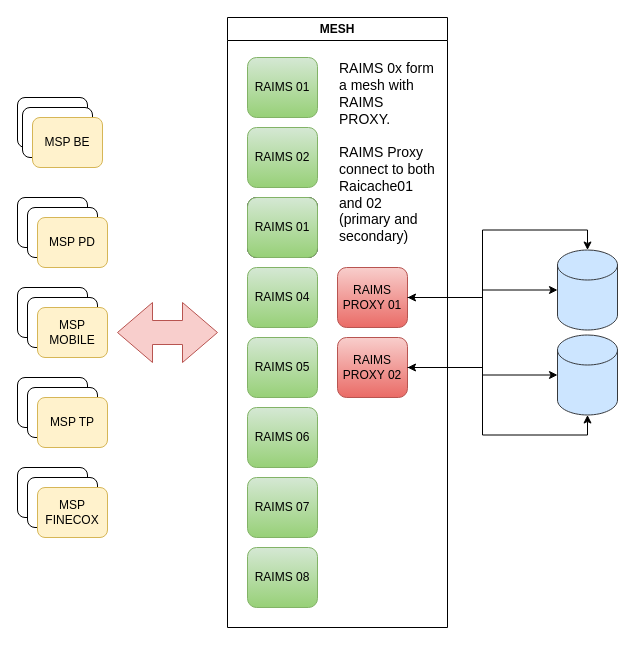
The diagram is 635 pixels wide and 645 high, and some of its shapes have lost their labels. The shapes that lost their labels are listed below. From the top down, each one's centre as x and y in pixels, then its label:
(x=587, y=289): RAICACHE 01
(x=167, y=332): LVS
(x=587, y=374): RAICACHE 02
